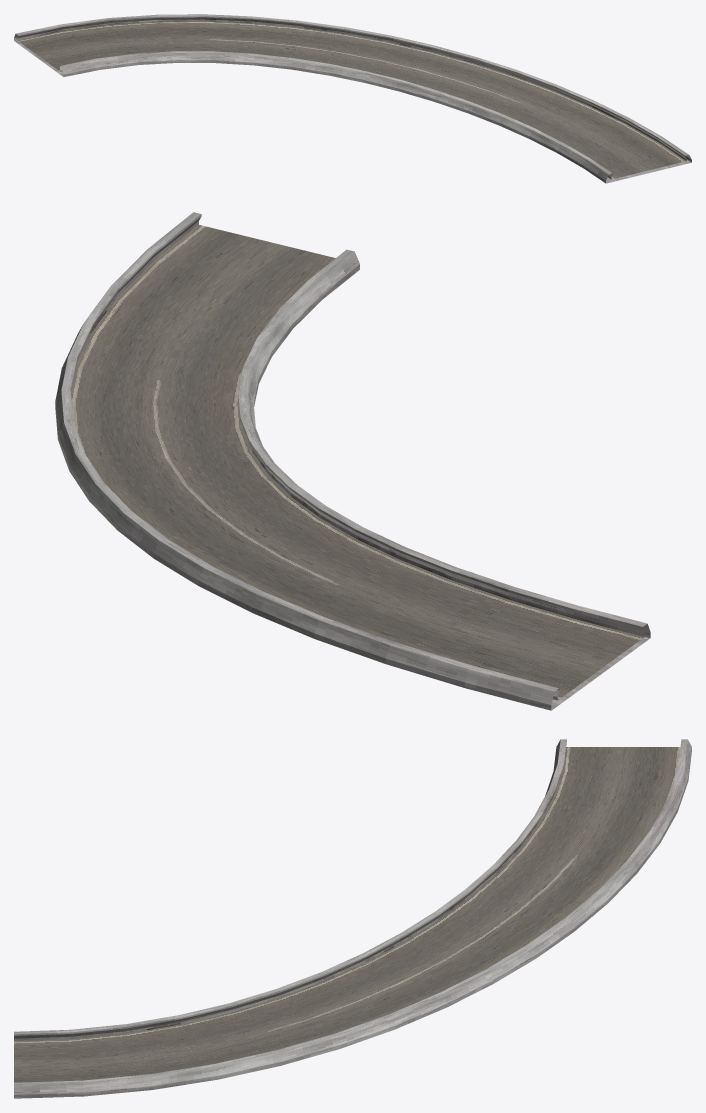
File: turn-left5x5.glb
3 renders of one model, top to bottom at view 1: azimuth 30°, elevation 25°; view 2: azimuth 150°, elevation 25°; view 3: azimuth 270°, elevation 25°, orthographic. The views are drawn at different scales.
Visible parts, largest first — view 1: road-Turn-Flat-Flat-Up2-Left-Size5; view 2: road-Turn-Flat-Flat-Up2-Left-Size5; view 3: road-Turn-Flat-Flat-Up2-Left-Size5.
Part boxes in pixels (x1,y1,x2,y2): road-Turn-Flat-Flat-Up2-Left-Size5: (14, 14, 691, 183); road-Turn-Flat-Flat-Up2-Left-Size5: (55, 212, 650, 710); road-Turn-Flat-Flat-Up2-Left-Size5: (14, 739, 691, 1098).
Bounding box in the file's own units: 5 × 0.5938 × 5.
Materials: 2 (2 with a texture image).
